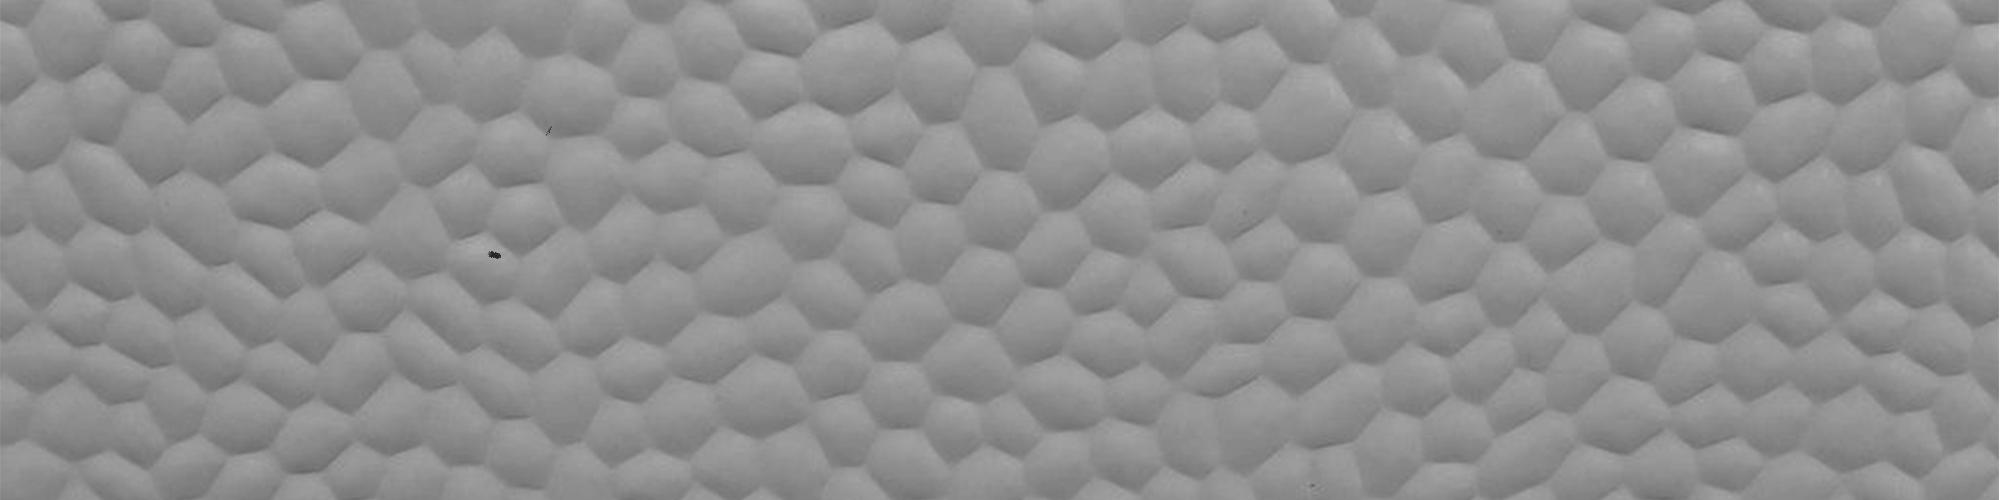Decomposed: (537, 122, 561, 139), (483, 247, 503, 259)
